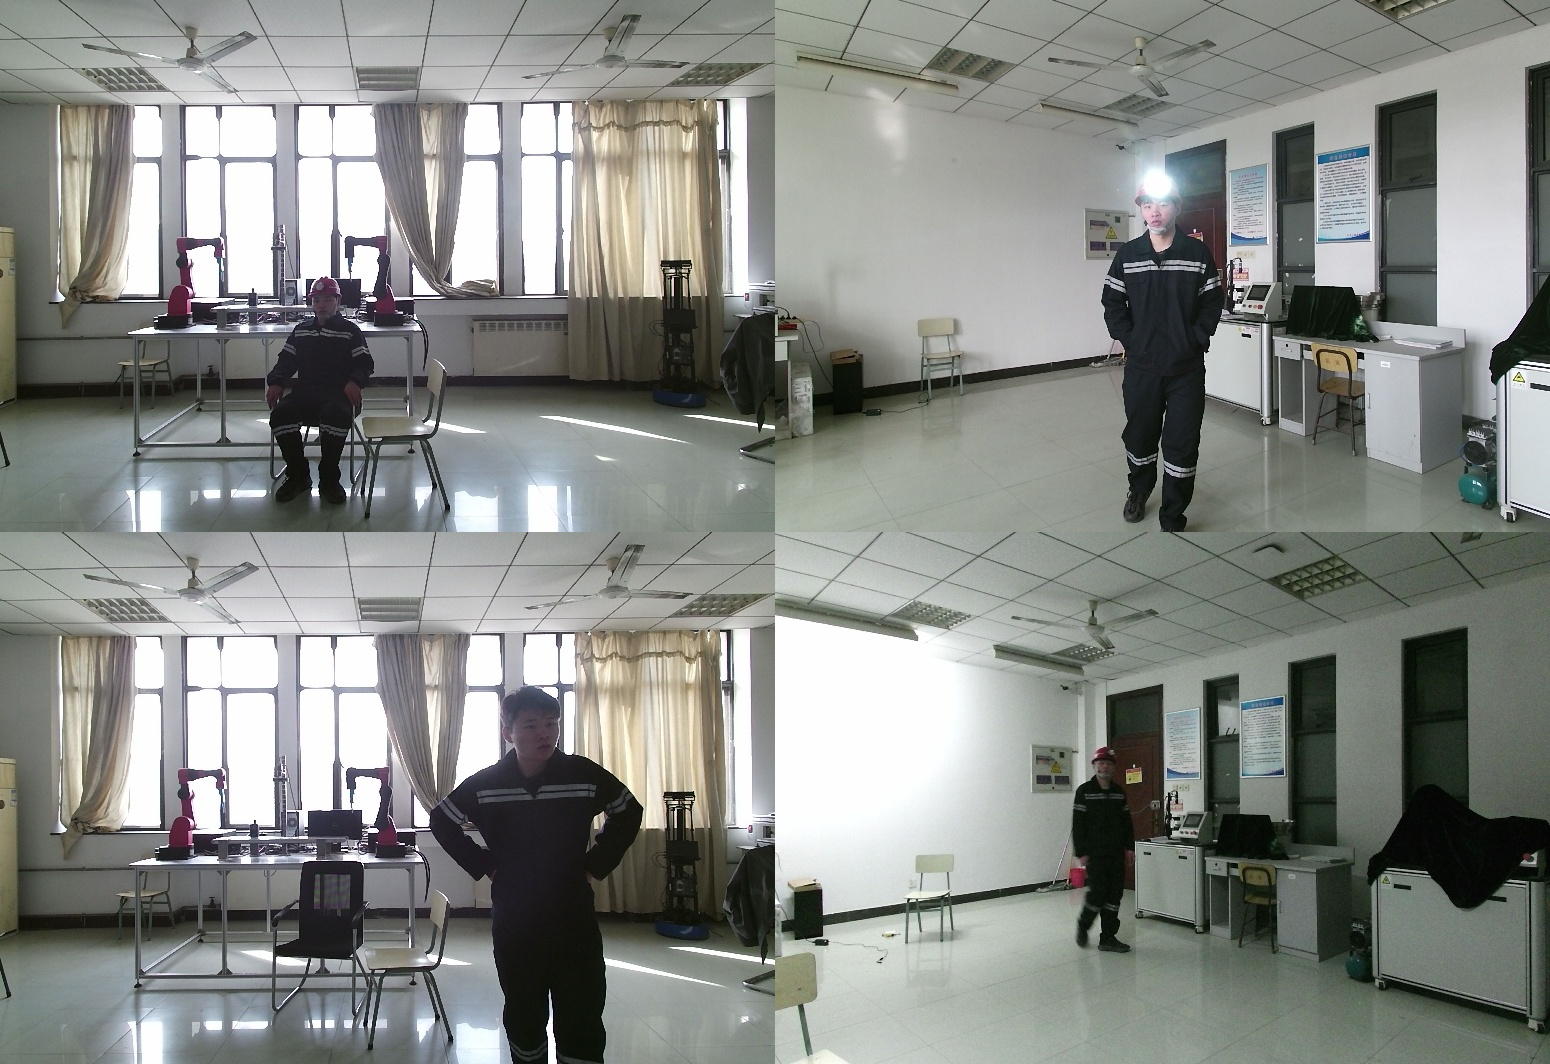person: (437, 684, 674, 1064), (1096, 175, 1230, 532), (268, 278, 380, 504), (1063, 749, 1134, 963)
